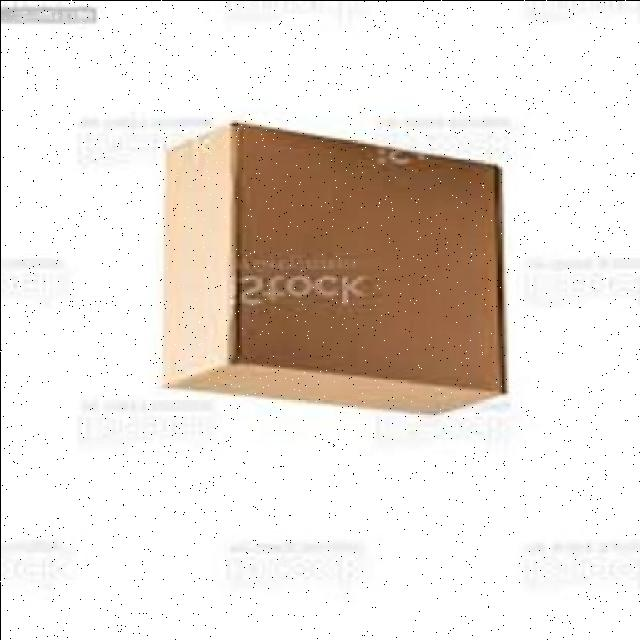normal: (155, 115, 511, 418)
